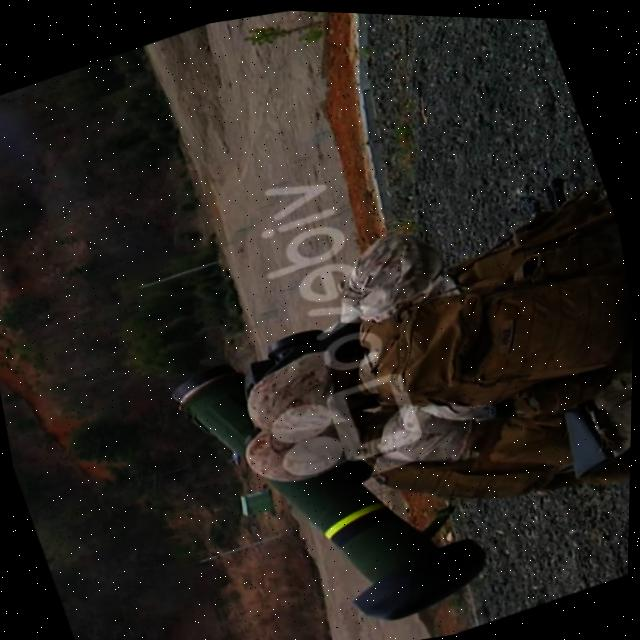rocket: (162, 291, 511, 640)
